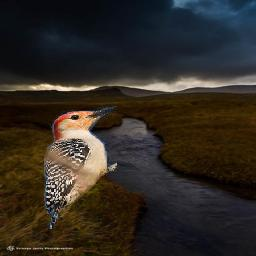Woodpecker: (45, 105, 118, 230)
